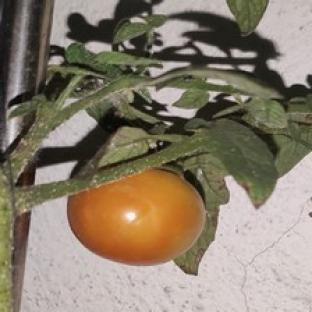Tomato: (67, 169, 206, 266)
